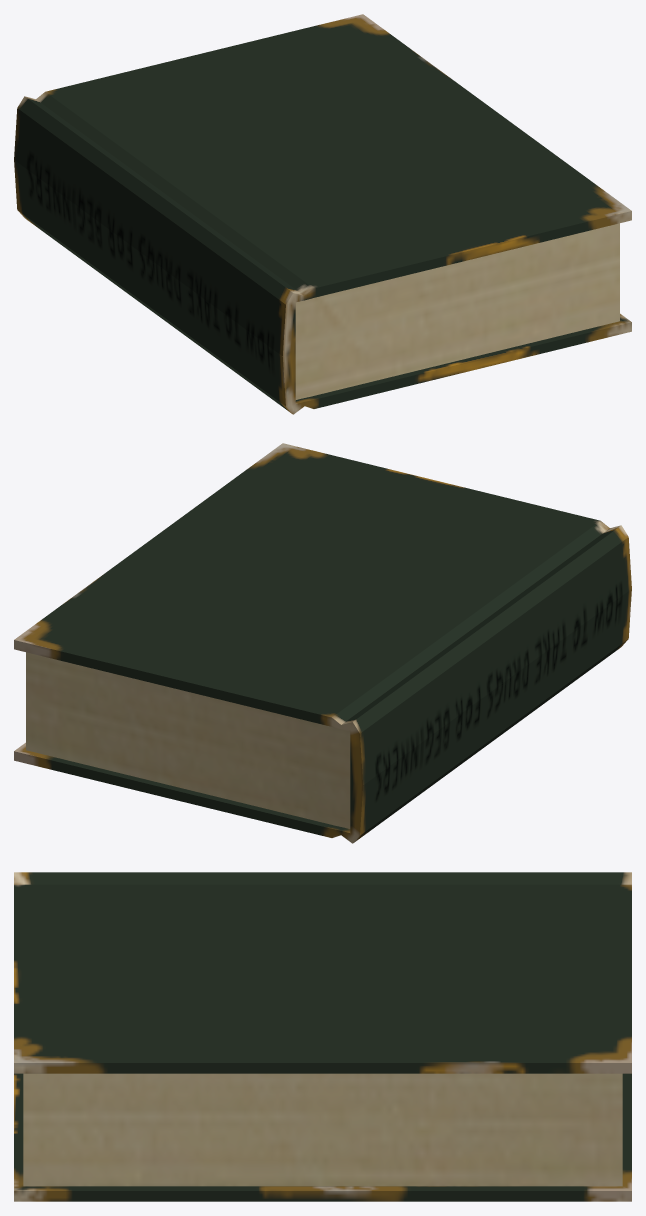
File: LIBRO_HOW.glb
3 views of the same model, one above another, from view 1: azimuth 30°, elevation 25°; view 2: azimuth 150°, elevation 25°; view 3: azimuth 270°, elevation 25° (orthographic). The views are drawn at different scales.
Parts seen in each view (by area): view 1: LIBRO_1; view 2: LIBRO_1; view 3: LIBRO_1.
Boxes of the visible parts, x1,y1,x2,y2 form: LIBRO_1: (14, 14, 631, 414); LIBRO_1: (14, 443, 631, 843); LIBRO_1: (14, 872, 631, 1201).
Bounding box in the file's own units: 0.3 × 0.1 × 0.4.
1 material, 1 textured.
